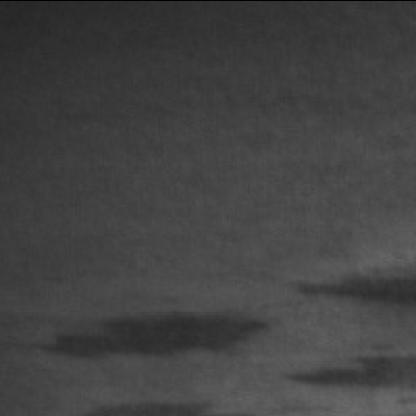inclusion: (27, 310, 285, 368), (281, 343, 416, 406), (287, 270, 416, 312)
